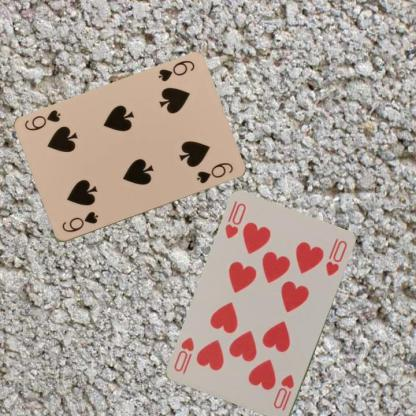10h: (270, 372, 296, 413), (222, 200, 248, 240)
6s: (59, 209, 100, 234), (155, 58, 196, 83)
